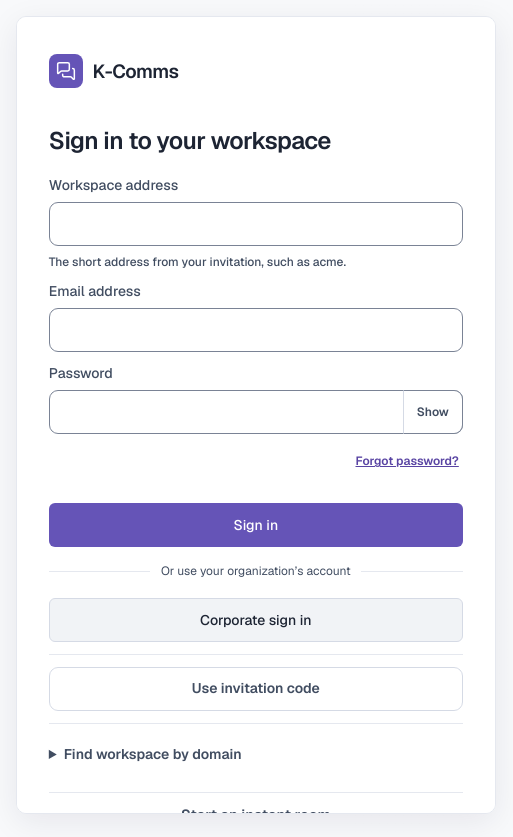
AuthScreen › keeps an invalid MFA proof signed out and allows a fresh sign-in challenge
Type "acme" into the field labelled "Workspace address" at (256, 224), box [49,202,463,246]
Type "taylor@example.test" into the field labelled "Email address" at (256, 330), box [49,308,463,352]
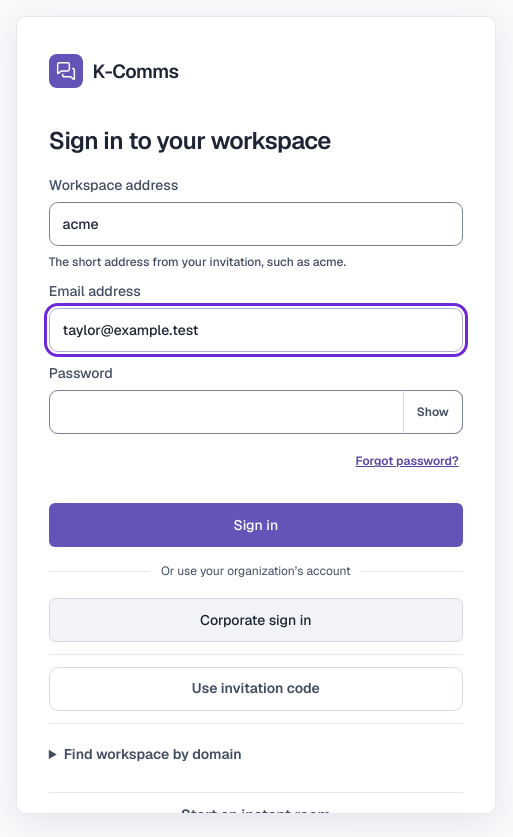
Type "password" into the password field labelled "Password" at (256, 412), box [49,390,463,434]
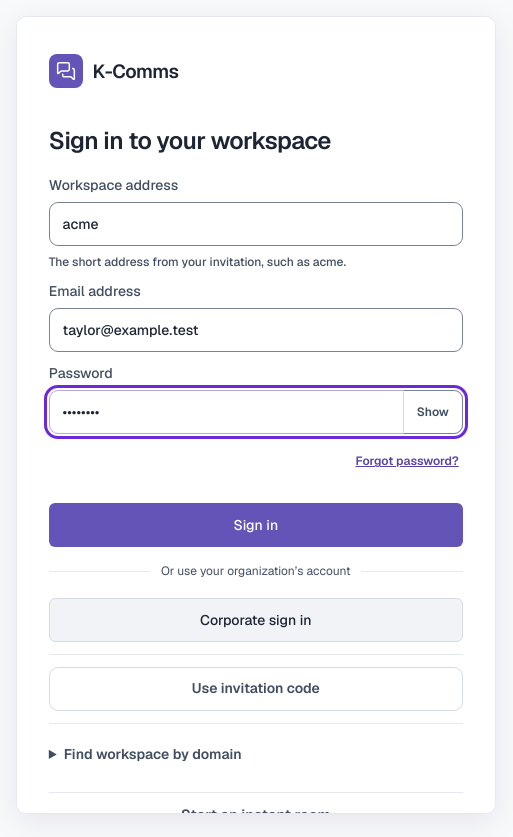
Click the button "Sign in" at (256, 525), box [49,503,463,547]
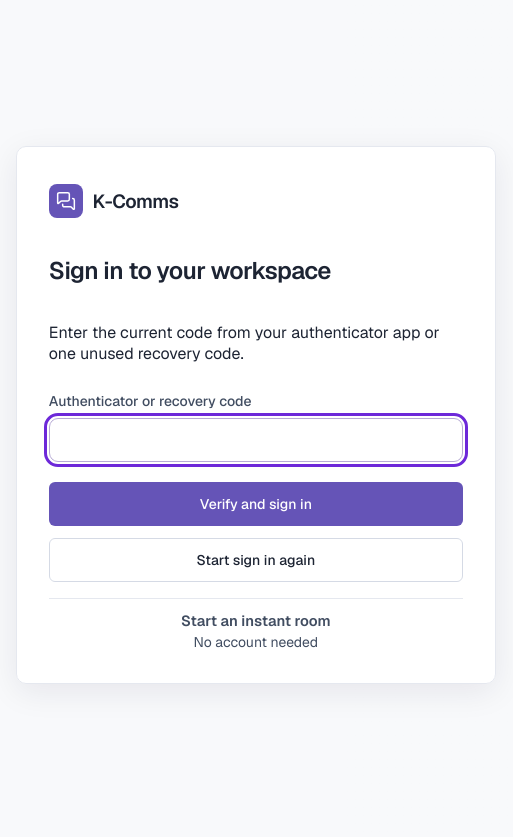
Type "111111" into the field labelled "Authenticator or recovery code" at (256, 440), box [49,418,463,462]
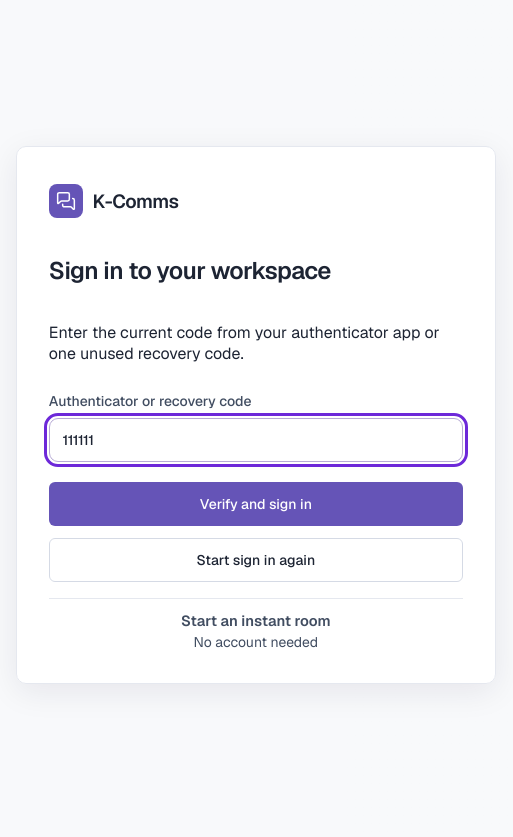
Click the button "Verify and sign in" at (256, 504), box [49,482,463,526]
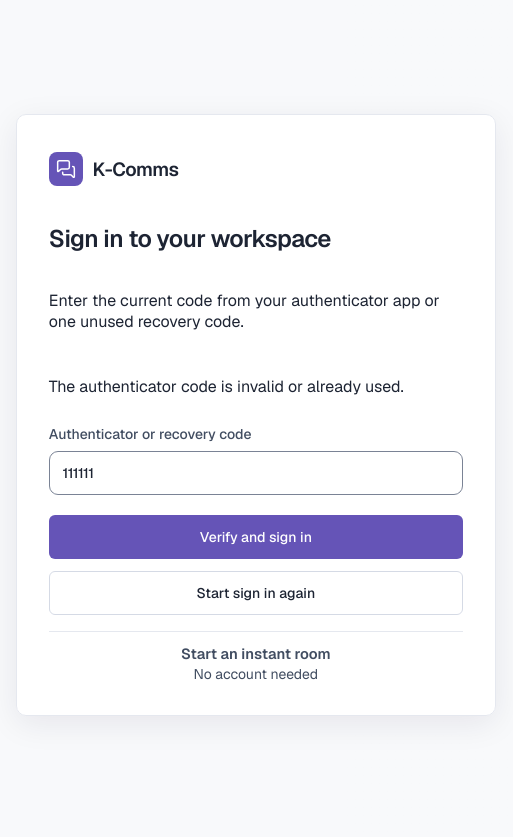
Result: the message reads "The authenticator code is invalid or already used." at [49,376,404,397]
Click the button "Start sign in again" at (256, 593), box [49,571,463,615]
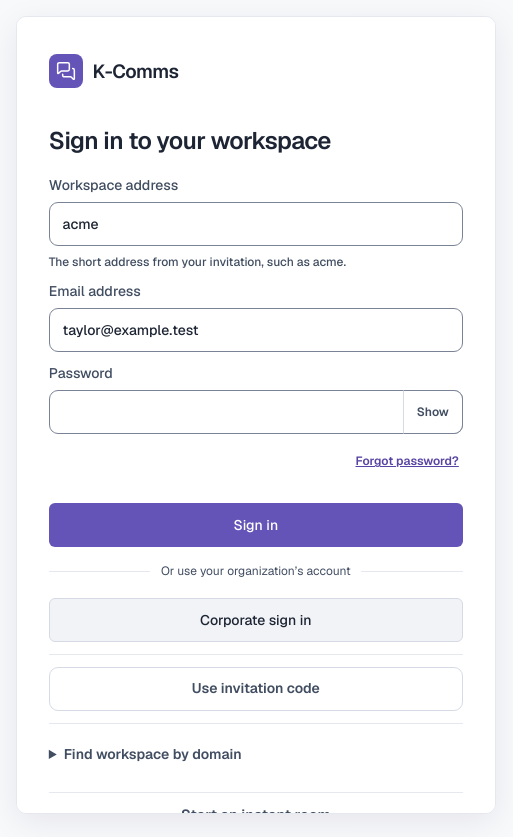
Result: the password field labelled "Password" is empty at [49,390,463,434]
Result: the label labelled "Authenticator or recovery code" is gone
